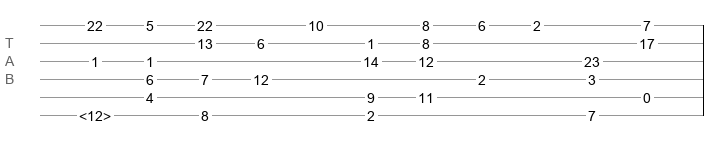0: (643, 90, 651, 100)
1: (91, 54, 99, 64), (146, 54, 154, 64), (367, 36, 375, 46)
10: (308, 18, 324, 28)
11: (418, 90, 434, 100)
12: (253, 72, 269, 82), (418, 54, 434, 64)
13: (197, 36, 213, 46)
14: (363, 54, 379, 64)
17: (639, 36, 655, 46)
2: (367, 108, 375, 118), (478, 72, 486, 82), (533, 18, 541, 28)
22: (87, 18, 103, 28), (197, 18, 213, 28)
23: (584, 54, 600, 64)
3: (588, 72, 596, 82)
4: (146, 90, 154, 100)
5: (146, 18, 154, 28)
6: (146, 72, 154, 82), (257, 36, 265, 46), (478, 18, 486, 28)
7: (201, 72, 209, 82), (588, 108, 596, 118), (643, 18, 651, 28)
8: (201, 108, 209, 118), (422, 18, 430, 28), (422, 36, 430, 46)
9: (367, 90, 375, 100)
harmonic: (79, 108, 111, 118)
